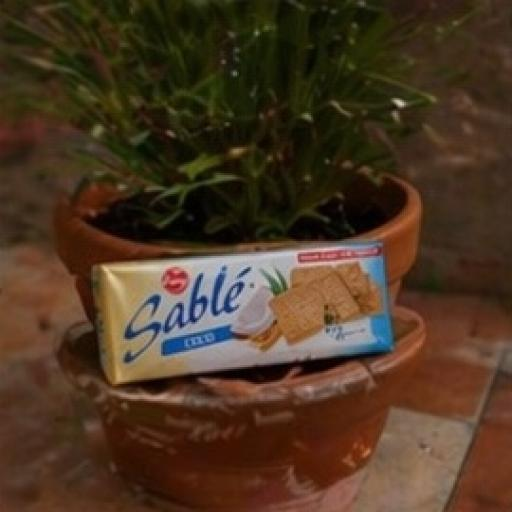sabl: (46, 185, 459, 436)
